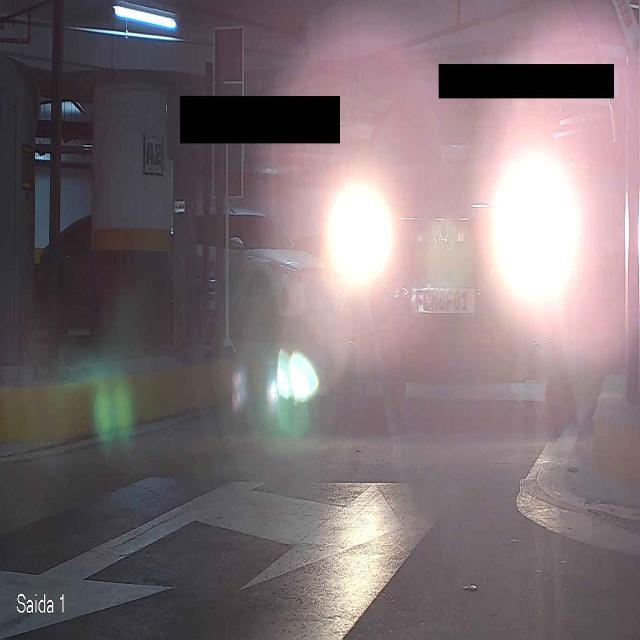mercosul_plate: (407, 279, 479, 315)
